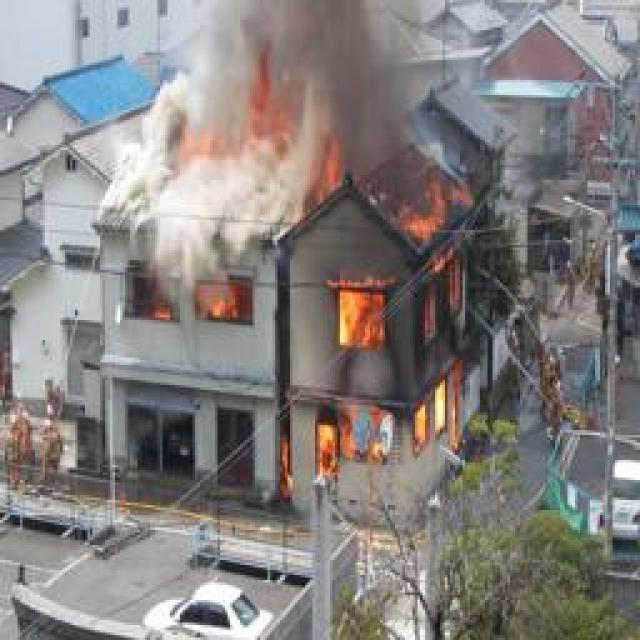Fire: (311, 175, 475, 480), (185, 84, 283, 158), (201, 285, 244, 324)
